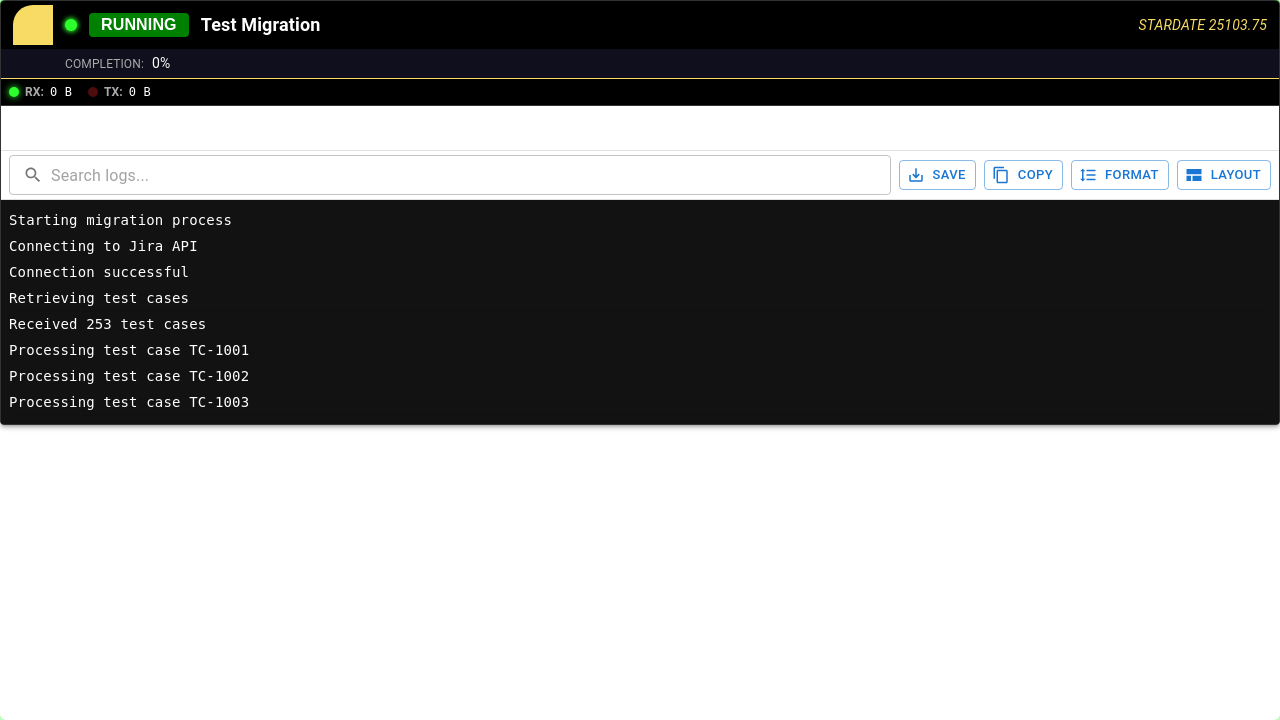
Test: StatusWindow › allows changing display format when format button is clicked
// Open format dropdown
Click the button "Format".
click(1120, 175)  # box [1071,160,1169,190]
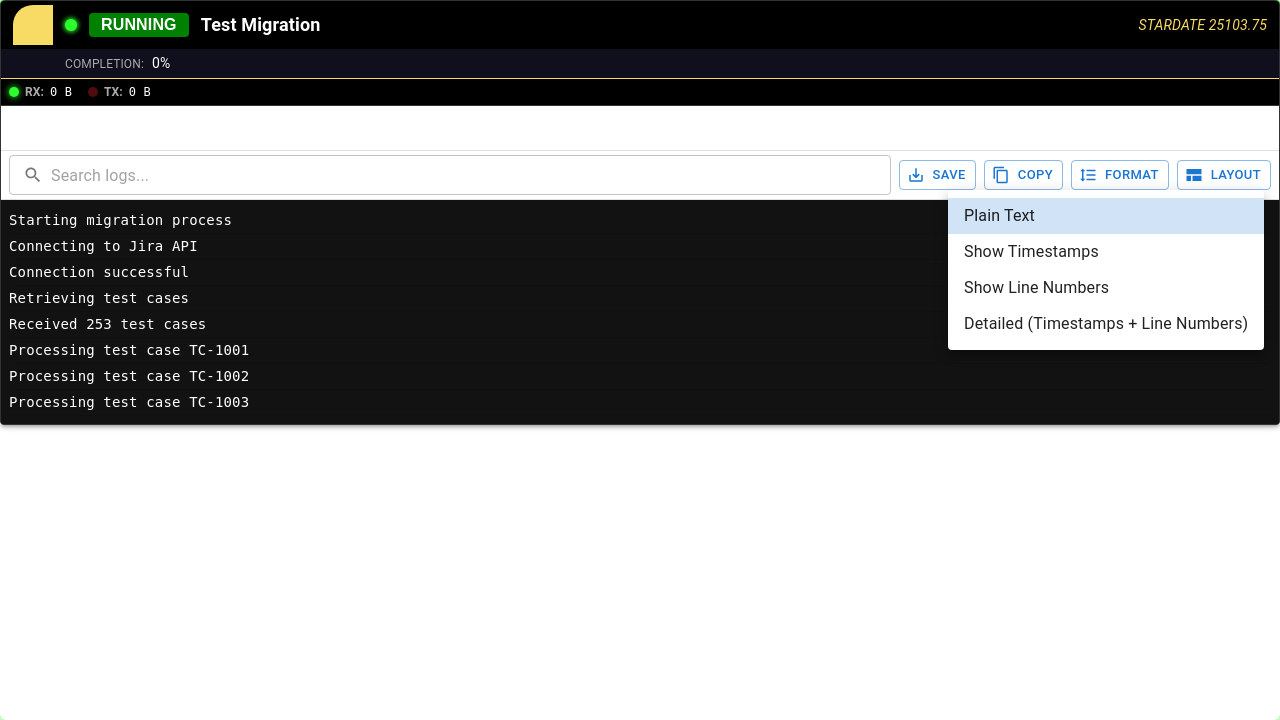
// Select a different format
Click the menu item "Show Timestamps".
click(1031, 252)  # box [964,242,1099,261]
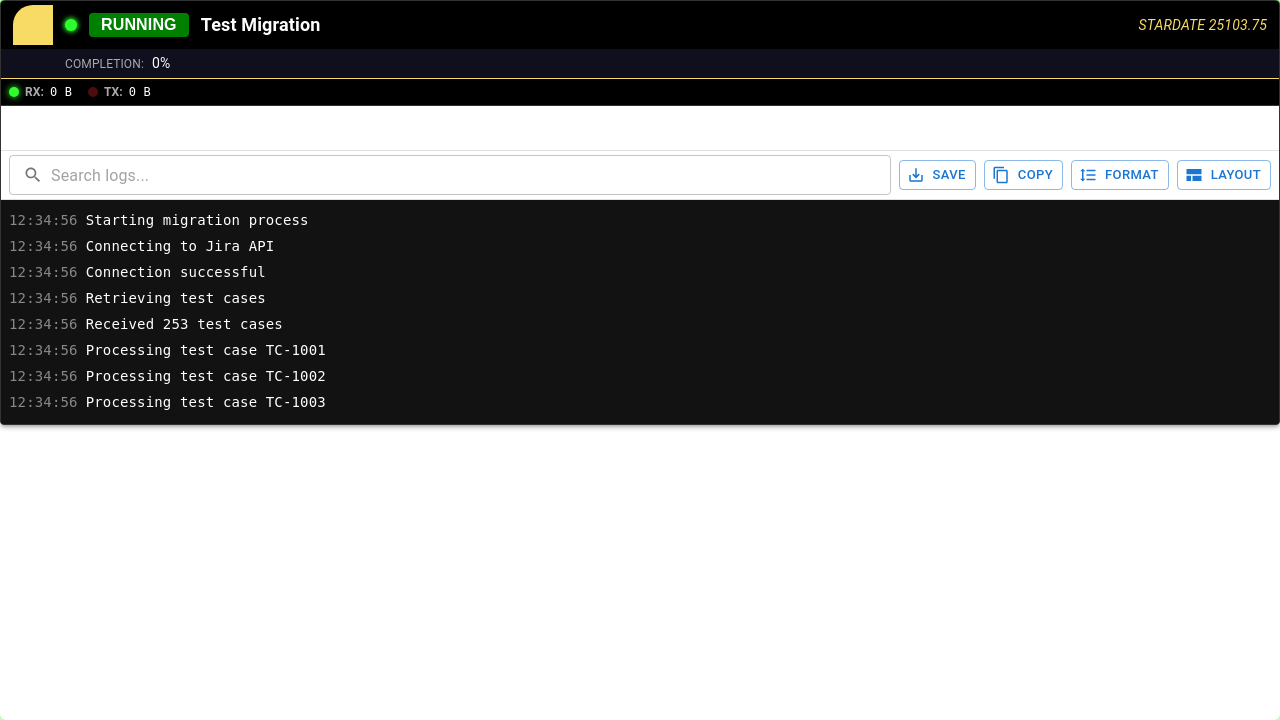
Expected: the text "12:34:56" is shown 8 times
